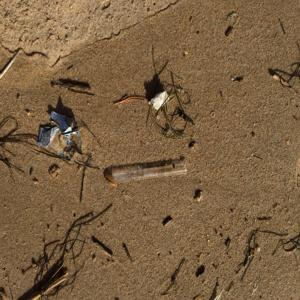plastic: (28, 103, 93, 153), (100, 161, 196, 184), (141, 86, 178, 116)
